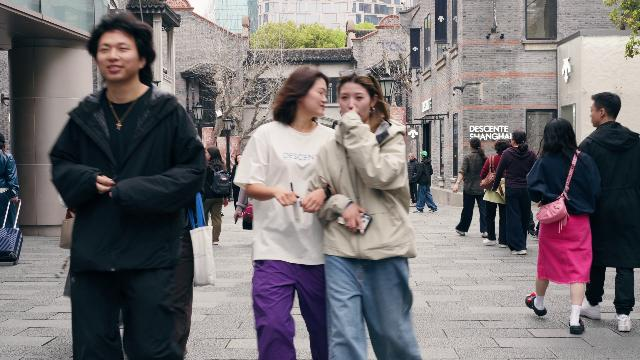person: (48, 9, 207, 360), (305, 69, 425, 360), (239, 57, 337, 356), (525, 118, 602, 335), (578, 92, 640, 332), (490, 130, 538, 255), (452, 136, 489, 238), (479, 138, 510, 246), (200, 146, 231, 245), (0, 132, 19, 232), (407, 152, 420, 207)
